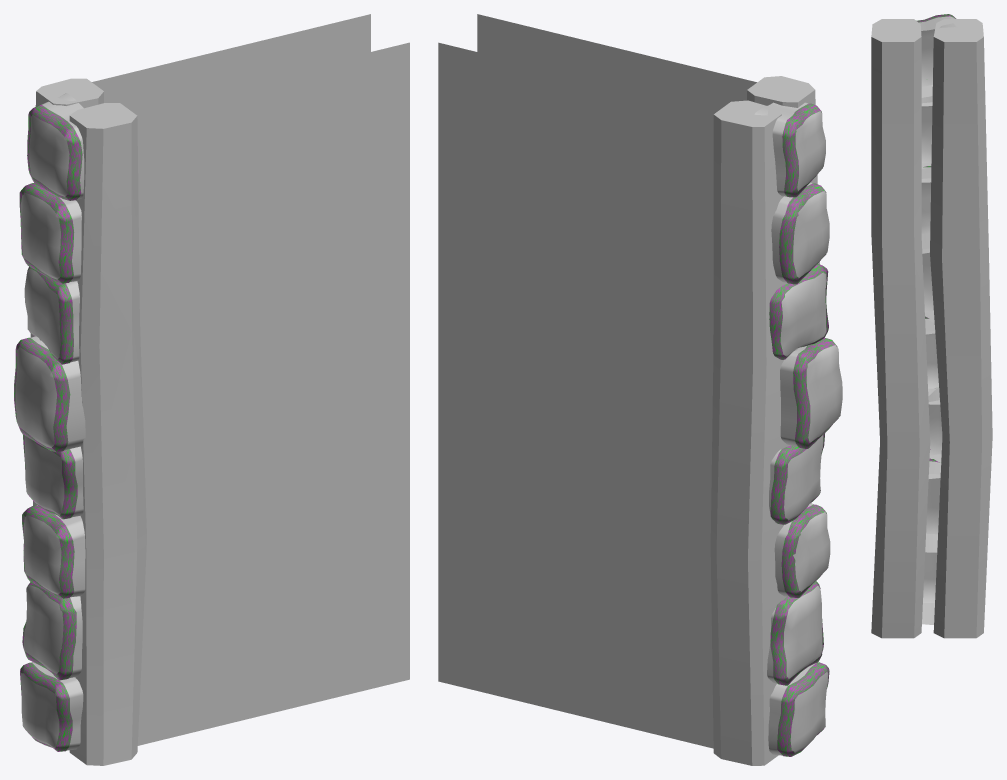
File: SM_barnWallB_1m_a1.fbx
3 views of the same model, side by side, from view 1: azimuth 30°, elevation 25°; view 2: azimuth 150°, elevation 25°; view 3: azimuth 270°, elevation 25° (orthographic). The views are drawn at different scales.
Visible parts, largest first — view 1: SM_barnWallB_1m_a1_LOD0; view 2: SM_barnWallB_1m_a1_LOD0; view 3: SM_barnWallB_1m_a1_LOD0.
Part boxes in pixels (x1,y1,x2,y2): SM_barnWallB_1m_a1_LOD0: [14, 14, 409, 765]; SM_barnWallB_1m_a1_LOD0: [438, 14, 842, 765]; SM_barnWallB_1m_a1_LOD0: [871, 14, 992, 638].
Bounding box in the file's own units: 119 × 36.85 × 200.
Materials: 3 (1 with a texture image).
